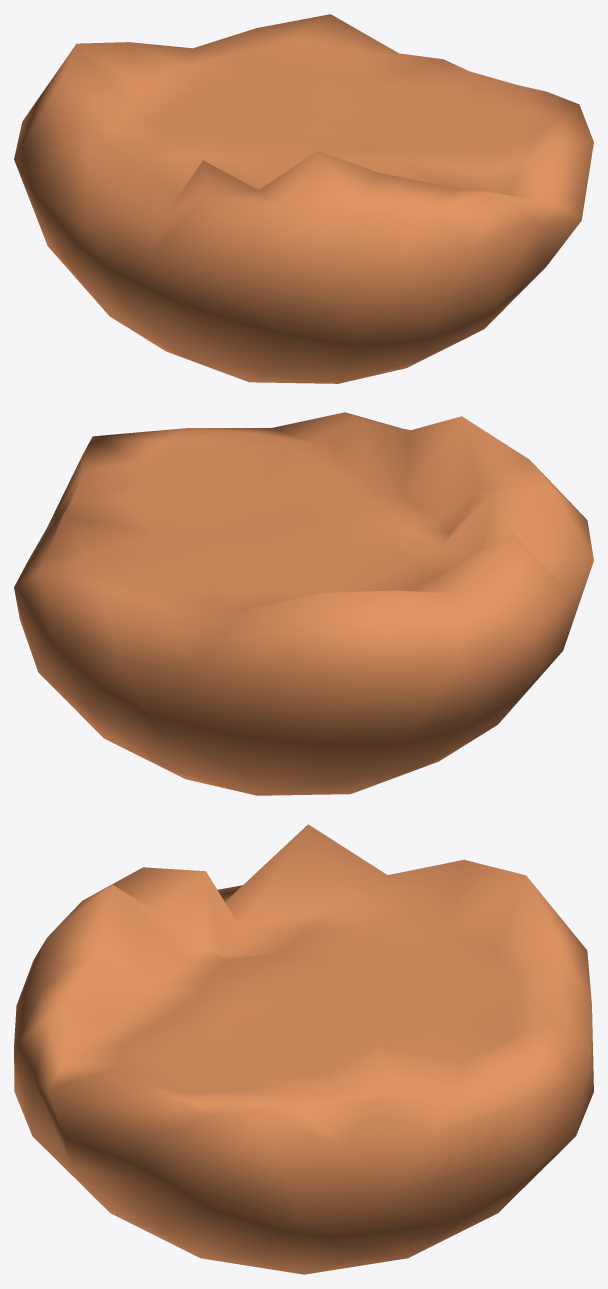
File: Island.FBX
3 views of the same model, one above another, from view 1: azimuth 30°, elevation 25°; view 2: azimuth 150°, elevation 25°; view 3: azimuth 270°, elevation 25° (orthographic). The views are drawn at different scales.
Visible parts, largest first — view 1: GeoSphere001; view 2: GeoSphere001; view 3: GeoSphere001.
Boxes of the visible parts, box(x1,y1,x2,y2) form: GeoSphere001: box(14, 14, 593, 383); GeoSphere001: box(14, 412, 593, 795); GeoSphere001: box(14, 824, 593, 1274).
Bounding box in the file's own units: 60766 × 35006 × 57696.
